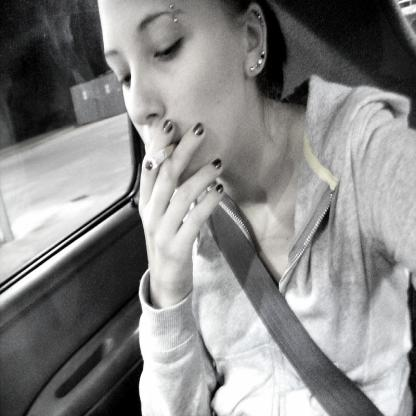smoking: (145, 143, 178, 171)
